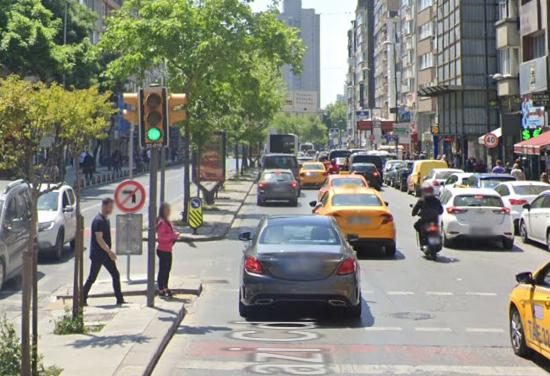greenlight: (138, 86, 167, 147)
leftturnsareforbidden: (113, 177, 147, 213)
